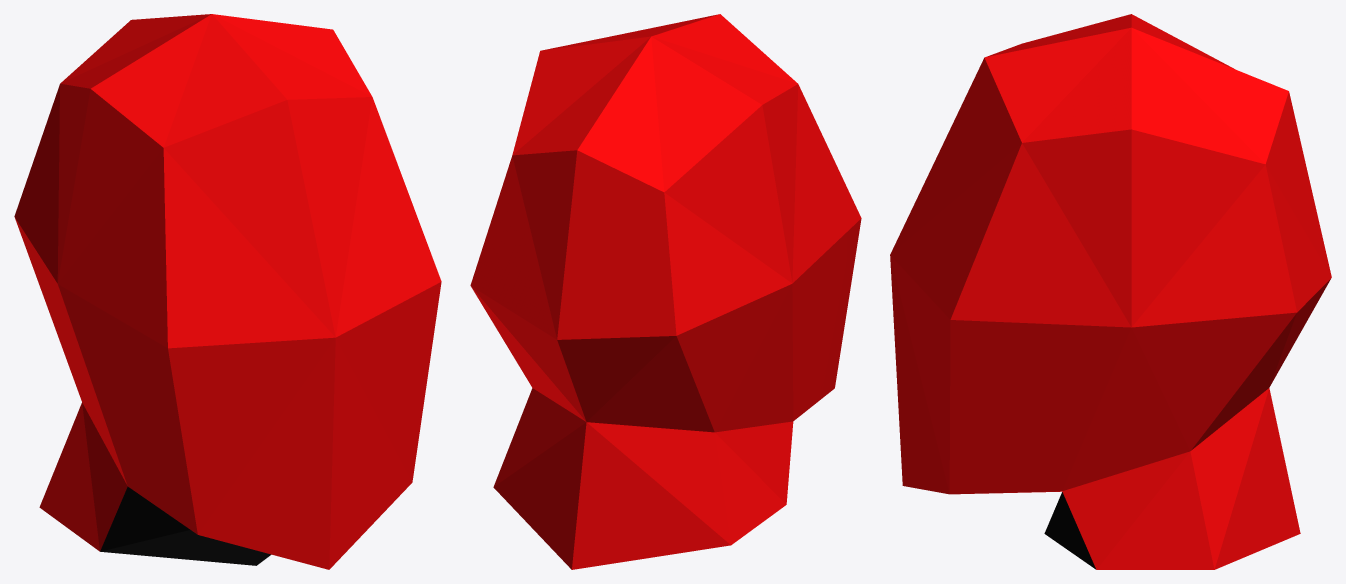
Rendered from enemy2Head.obj.
3 views of the same model, side by side, from view 1: azimuth 30°, elevation 25°; view 2: azimuth 150°, elevation 25°; view 3: azimuth 270°, elevation 25° (orthographic). The views are drawn at different scales.
Visible parts, largest first — view 1: Cube.003; view 2: Cube.003; view 3: Cube.003.
Boxes of the visible parts, bbox=[...] form: Cube.003: bbox=[14, 14, 441, 569]; Cube.003: bbox=[470, 14, 861, 569]; Cube.003: bbox=[890, 14, 1331, 569].
Bounding box in the file's own units: 0.1773 × 0.2853 × 0.2257.
